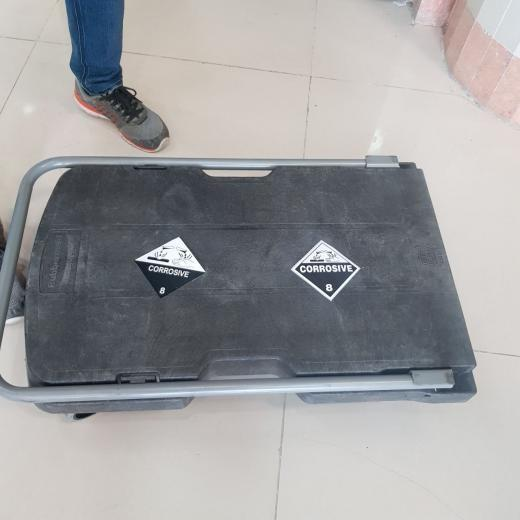corrosive: (135, 237, 207, 299), (293, 239, 362, 300)
